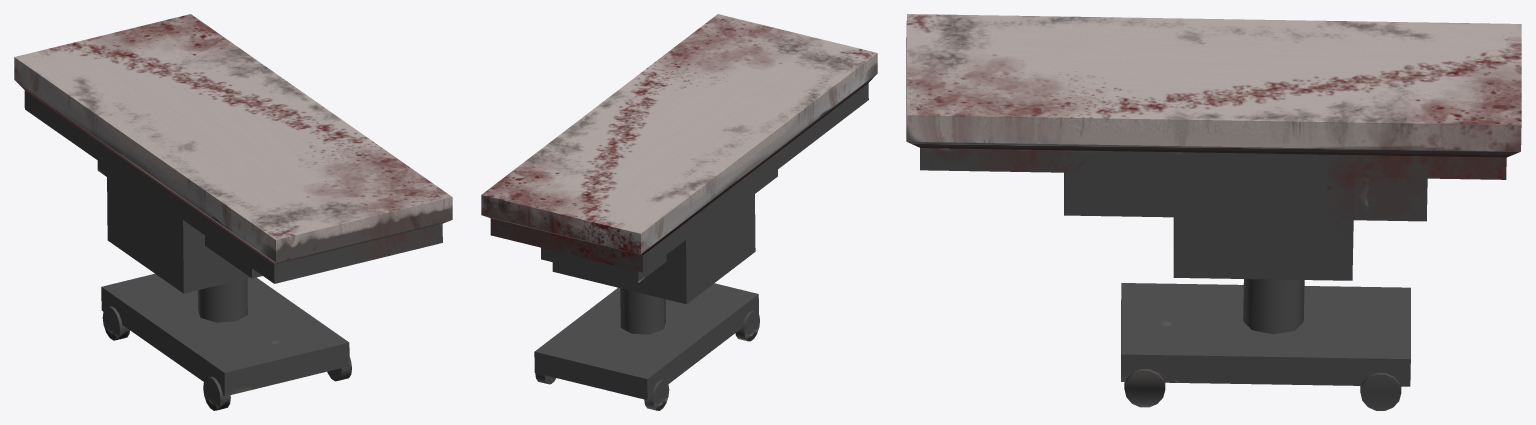
File: gourney.fbx
The picture shows the model from 3 angles, left to right: view 1: azimuth 30°, elevation 25°; view 2: azimuth 150°, elevation 25°; view 3: azimuth 270°, elevation 25°; orthographic projection. The views are drawn at different scales.
Parts seen in each view (by area): view 1: Box004; view 2: Box004; view 3: Box004.
Part boxes in pixels (<box>): Box004: <box>14,14,452,410</box>; Box004: <box>481,14,877,410</box>; Box004: <box>906,14,1521,410</box>.
Size of the model in its own units: 50.47 by 69.91 by 130.
